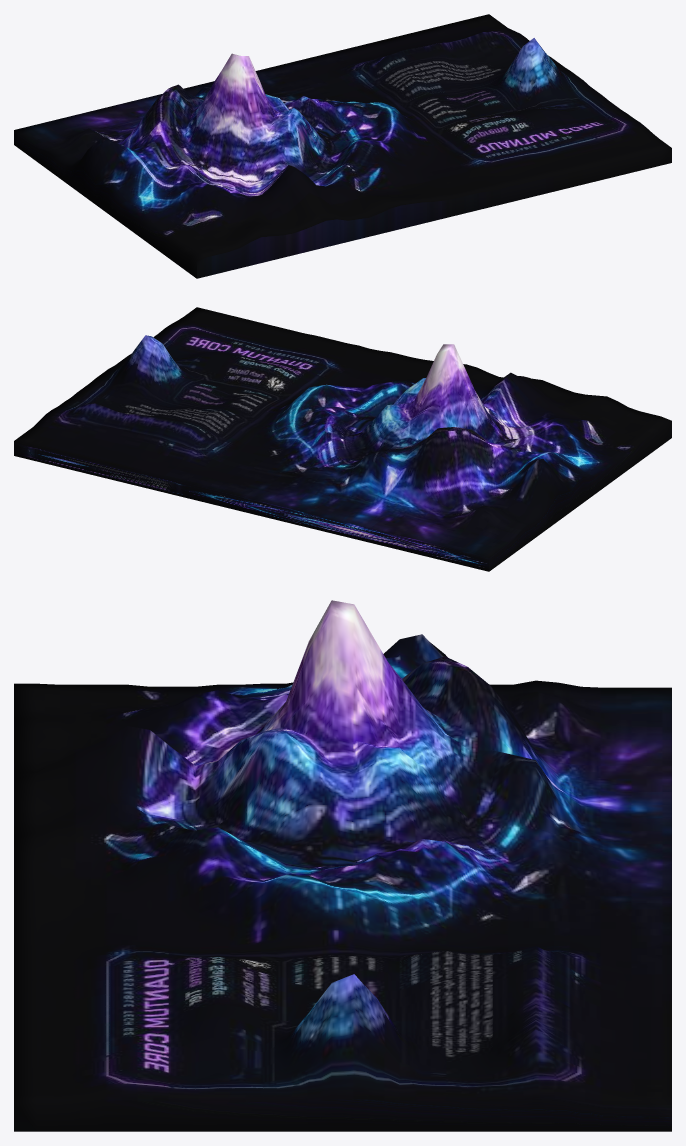
The model's file is TECH_02_Quantum_Core.glb.
3 renders of one model, top to bottom at view 1: azimuth 30°, elevation 25°; view 2: azimuth 150°, elevation 25°; view 3: azimuth 270°, elevation 25°, orthographic. The views are drawn at different scales.
Visible parts, largest first — view 1: TECH_02_Quantum_Core; view 2: TECH_02_Quantum_Core; view 3: TECH_02_Quantum_Core.
Part boxes in pixels (x1,y1,x2,y2): TECH_02_Quantum_Core: (14,14,671,278); TECH_02_Quantum_Core: (14,307,671,571); TECH_02_Quantum_Core: (14,600,671,1131).
Size of the model in its own units: 2 by 0.51 by 1.33.
Materials: 1 (1 with a texture image).
